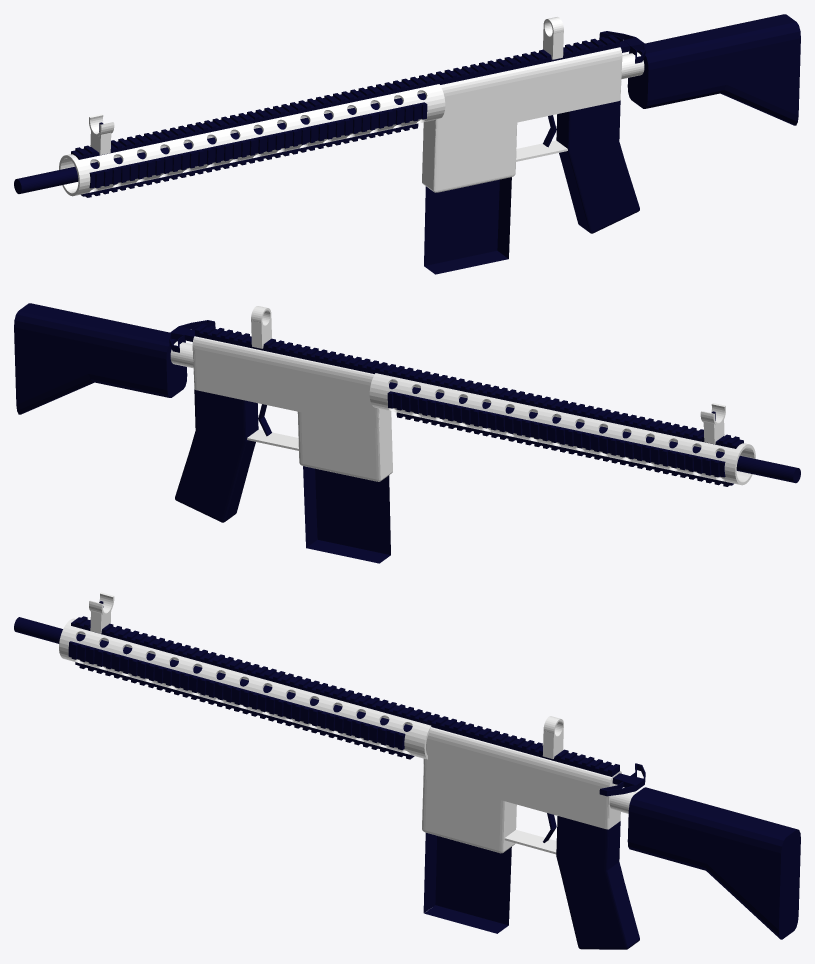
The model's file is stoner0002.obj.
3 renders of one model, top to bottom at view 1: azimuth 30°, elevation 25°; view 2: azimuth 150°, elevation 25°; view 3: azimuth 330°, elevation 25°, orthographic.
Parts seen in each view (by area): view 1: shoulderStock, upperReceiver, handGuard, rearPistolGrip, mag, picatinyRail, picatinyRailLeft, magWell, barrel, picatinyRailBottom, lowerTriggerGuard, handle (+2 smaller); view 2: shoulderStock, upperReceiver, handGuard, rearPistolGrip, mag, picatinyRail, picatinyRailRight, magWell, barrel, picatinyRailBottom, lowerTriggerGuard, handle (+2 smaller); view 3: shoulderStock, upperReceiver, rearPistolGrip, handGuard, mag, picatinyRail, picatinyRailLeft, magWell, barrel, picatinyRailBottom, lowerTriggerGuard, handle.
Boxes of the visible parts, <box> form: shoulderStock: <box>627,14,800,125</box>; upperReceiver: <box>423,47,622,139</box>; handGuard: <box>59,84,445,196</box>; rearPistolGrip: <box>556,100,639,233</box>; mag: <box>424,177,511,274</box>; picatinyRail: <box>71,35,619,159</box>; picatinyRailLeft: <box>89,102,427,188</box>; magWell: <box>422,122,517,192</box>; barrel: <box>14,93,425,193</box>; picatinyRailBottom: <box>81,123,418,197</box>; lowerTriggerGuard: <box>516,140,567,161</box>; handle: <box>599,31,645,63</box>; shoulderStock: <box>14,303,187,414</box>; upperReceiver: <box>192,336,391,428</box>; handGuard: <box>369,373,755,485</box>; rearPistolGrip: <box>175,389,258,522</box>; mag: <box>303,466,390,563</box>; picatinyRail: <box>195,324,743,448</box>; picatinyRailRight: <box>387,391,725,477</box>; magWell: <box>297,411,392,481</box>; barrel: <box>389,382,800,483</box>; picatinyRailBottom: <box>396,412,733,486</box>; lowerTriggerGuard: <box>247,429,298,450</box>; handle: <box>169,320,215,352</box>; shoulderStock: <box>627,787,800,939</box>; upperReceiver: <box>423,727,621,829</box>; rearPistolGrip: <box>556,816,639,949</box>; handGuard: <box>59,618,431,759</box>; mag: <box>423,833,511,933</box>; picatinyRail: <box>71,616,619,776</box>; picatinyRailLeft: <box>68,641,405,750</box>; magWell: <box>422,778,516,853</box>; barrel: <box>14,617,412,731</box>; picatinyRailBottom: <box>75,662,414,759</box>; lowerTriggerGuard: <box>504,830,556,854</box>; handle: <box>599,763,645,796</box>.
Size of the model in its own units: 9.01 by 2.6 by 0.7121.
